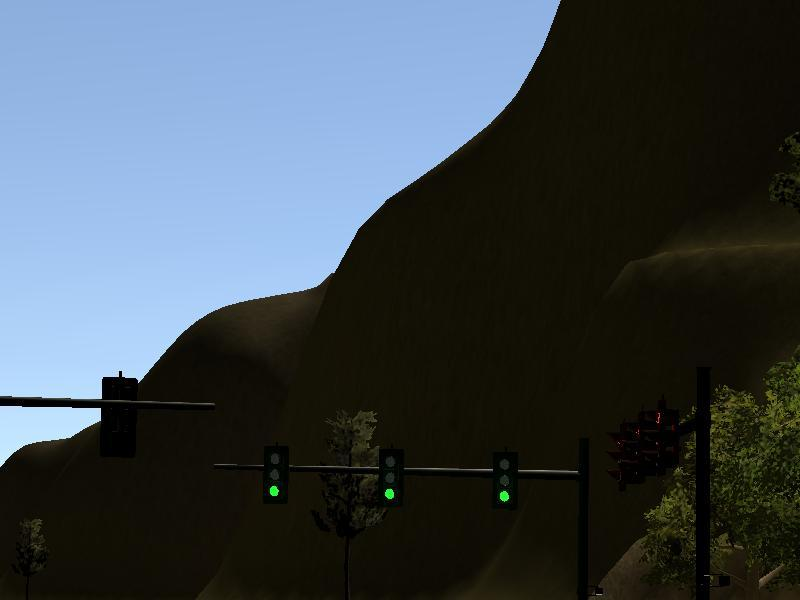Green: (492, 441, 519, 512), (264, 444, 286, 513), (376, 445, 400, 508)
